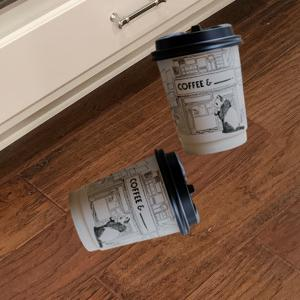cup: (70, 147, 201, 253), (152, 23, 248, 156)
